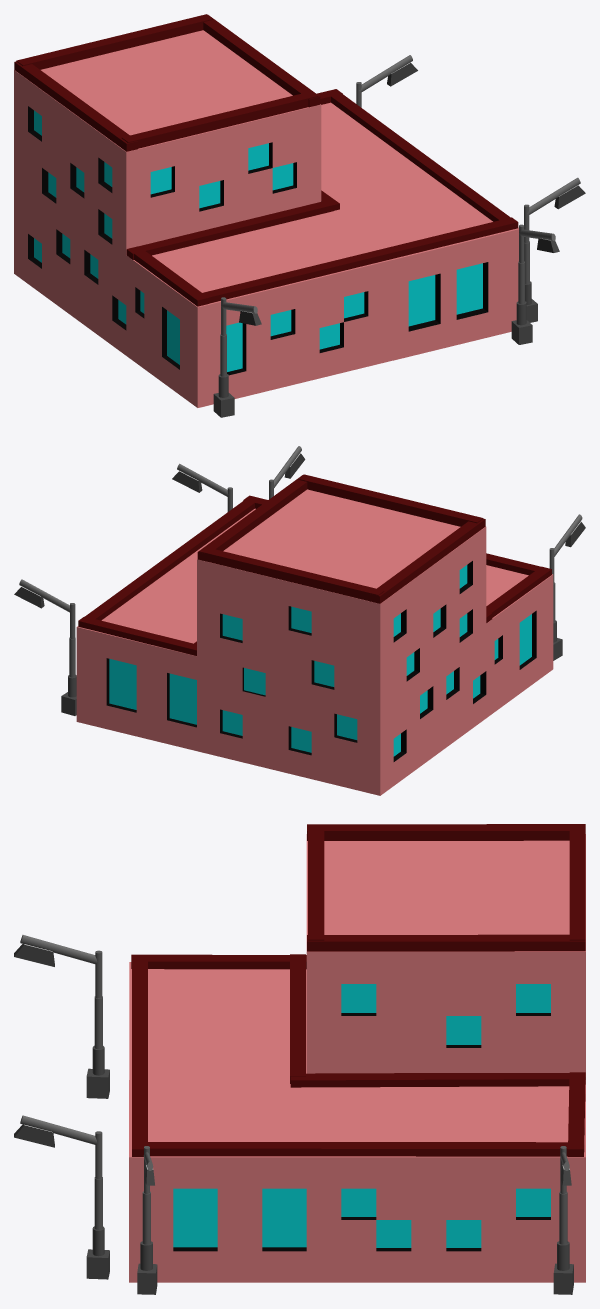
Rendered from building 13 .fbx.
3 views of the same model, one above another, from view 1: azimuth 30°, elevation 25°; view 2: azimuth 150°, elevation 25°; view 3: azimuth 270°, elevation 25° (orthographic). The views are drawn at different scales.
Parts seen in each view (by area): view 1: Cube, Cube.001, Cube.002, Cube.009, Cube.010, Cube.003, Cube.008, Cube.004, Cube.005; view 2: Cube, Cube.002, Cube.010, Cube.009, Cube.008, Cube.004, Cube.006, Cube.005, Cube.001; view 3: Cube, Cube.002, Cube.004, Cube.008, Cube.007, Cube.001, Cube.005, Cube.009, Cube.010, Cube.003, Cube.006, Cylinder.012 (+4 smaller).
Boxes of the visible parts, bbox=[...] form: Cube: bbox=[14, 30, 518, 407]; Cube.001: bbox=[194, 217, 518, 303]; Cube.002: bbox=[331, 90, 514, 221]; Cube.009: bbox=[122, 91, 318, 148]; Cube.010: bbox=[16, 14, 213, 69]; Cube.003: bbox=[126, 200, 334, 259]; Cube.008: bbox=[14, 61, 137, 151]; Cube.004: bbox=[203, 15, 320, 107]; Cube.005: bbox=[128, 246, 208, 306]; Cube: bbox=[76, 489, 553, 795]; Cube.002: bbox=[80, 497, 254, 621]; Cube.010: bbox=[199, 547, 384, 601]; Cube.009: bbox=[298, 474, 483, 526]; Cube.008: bbox=[369, 518, 485, 603]; Cube.004: bbox=[197, 474, 307, 561]; Cube.006: bbox=[78, 616, 196, 655]; Cube.005: bbox=[486, 566, 551, 617]; Cube.001: bbox=[243, 495, 547, 575]; Cube: bbox=[129, 834, 585, 1282]; Cube.002: bbox=[137, 1142, 580, 1156]; Cube.004: bbox=[307, 934, 585, 951]; Cube.008: bbox=[307, 824, 585, 840]; Cube.007: bbox=[290, 1073, 569, 1087]; Cube.001: bbox=[132, 956, 147, 1156]; Cube.005: bbox=[131, 954, 306, 969]; Cube.009: bbox=[308, 824, 324, 940]; Cube.010: bbox=[569, 824, 585, 940]; Cube.003: bbox=[290, 954, 305, 1083]; Cube.006: bbox=[568, 1072, 585, 1156]; Cylinder.012: bbox=[20, 935, 97, 964].
Bounding box in the file's own units: 3533 × 1818 × 3565.
